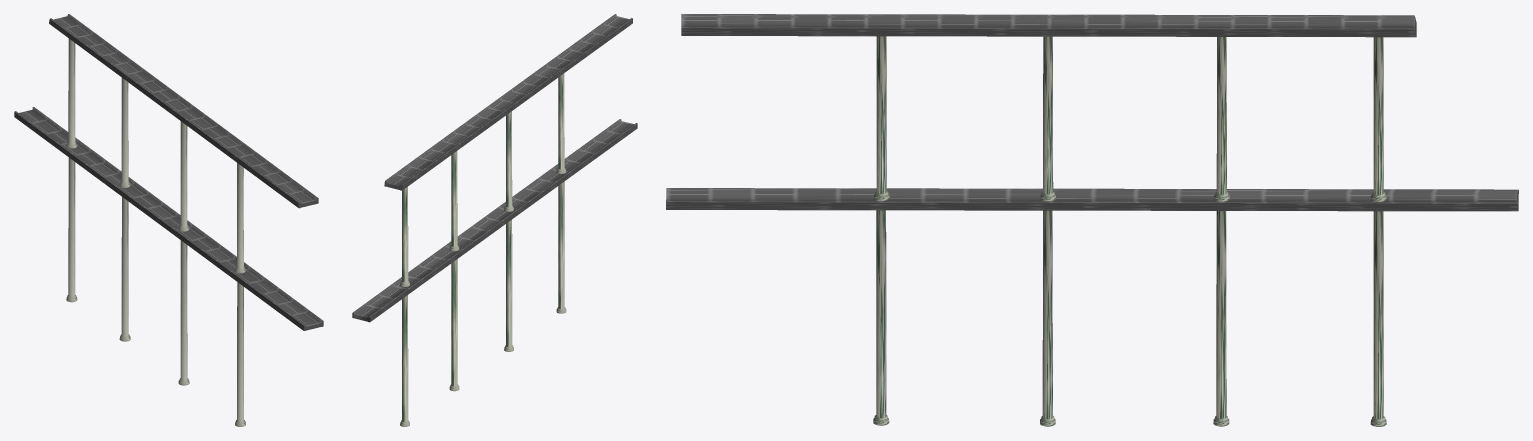
Rendered from TwoTierShortRunwayTextured.FBX.
3 renders of one model, left to right at view 1: azimuth 30°, elevation 25°; view 2: azimuth 150°, elevation 25°; view 3: azimuth 270°, elevation 25°, orthographic. The views are drawn at different scales.
Visible parts, largest first — view 1: Box006, Box005, Cylinder035, Cylinder034, Cylinder033, Cylinder030, Cylinder031, Cylinder036, Cylinder037, Cylinder032; view 2: Box006, Box005, Cylinder030, Cylinder033, Cylinder035, Cylinder034, Cylinder032, Cylinder037, Cylinder036, Cylinder031; view 3: Box006, Box005, Cylinder034, Cylinder033, Cylinder030, Cylinder035, Cylinder032, Cylinder036, Cylinder037, Cylinder031.
Part boxes in pixels (x1=…): Box006: x1=14, y1=107, x2=323, y2=330; Box005: x1=49, y1=14, x2=318, y2=208; Cylinder035: x1=178, y1=240, x2=189, y2=385; Cylinder034: x1=66, y1=157, x2=77, y2=302; Cylinder033: x1=119, y1=197, x2=130, y2=341; Cylinder030: x1=235, y1=282, x2=245, y2=426; Cylinder031: x1=178, y1=121, x2=189, y2=231; Cylinder036: x1=66, y1=38, x2=77, y2=148; Cylinder037: x1=119, y1=78, x2=130, y2=187; Cylinder032: x1=235, y1=163, x2=245, y2=273; Box006: x1=352, y1=119, x2=637, y2=322; Box005: x1=384, y1=14, x2=632, y2=190; Cylinder030: x1=556, y1=181, x2=566, y2=313; Cylinder033: x1=449, y1=259, x2=459, y2=391; Cylinder035: x1=504, y1=220, x2=513, y2=351; Cylinder034: x1=400, y1=295, x2=409, y2=426; Cylinder032: x1=556, y1=73, x2=566, y2=173; Cylinder037: x1=449, y1=151, x2=459, y2=251; Cylinder036: x1=400, y1=187, x2=409, y2=286; Cylinder031: x1=504, y1=111, x2=513, y2=211; Box006: x1=666, y1=188, x2=1518, y2=211; Box005: x1=681, y1=14, x2=1416, y2=37; Cylinder034: x1=1370, y1=211, x2=1386, y2=426; Cylinder033: x1=1213, y1=211, x2=1229, y2=426; Cylinder030: x1=873, y1=210, x2=889, y2=425; Cylinder035: x1=1040, y1=210, x2=1055, y2=426; Cylinder032: x1=873, y1=36, x2=889, y2=200; Cylinder036: x1=1370, y1=37, x2=1386, y2=201; Cylinder037: x1=1214, y1=37, x2=1229, y2=201; Cylinder031: x1=1040, y1=36, x2=1055, y2=201.
Size of the model in its own units: 60.64 by 726 by 1396.
Materials: 2 (2 with a texture image).
